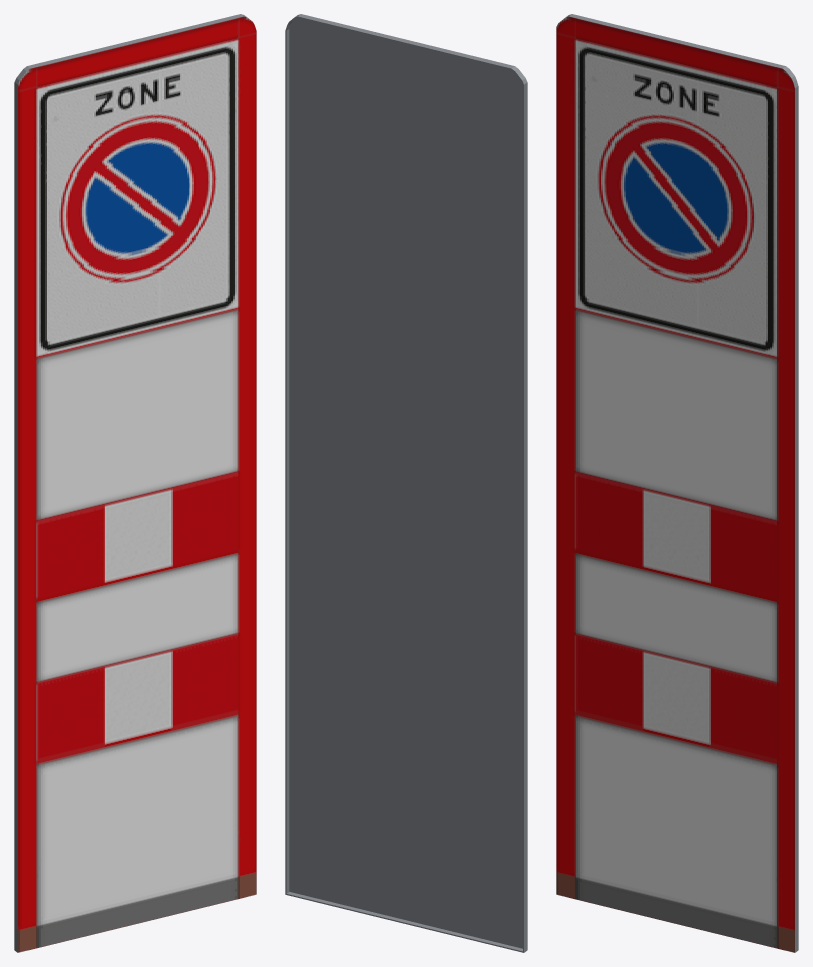
3 renders of one model, left to right at view 1: azimuth 30°, elevation 25°; view 2: azimuth 150°, elevation 25°; view 3: azimuth 330°, elevation 25°, orthographic.
Visible parts, largest first — view 1: cat_684416792df77a7e; view 2: cat_684416792df77a7e; view 3: cat_684416792df77a7e.
Part boxes in pixels (x1,y1,x2,y2): cat_684416792df77a7e: [14, 14, 256, 952]; cat_684416792df77a7e: [285, 14, 527, 952]; cat_684416792df77a7e: [556, 14, 798, 952].
Size of the model in its own units: 0.6 by 0.015 by 2.12.
Materials: 2 (1 with a texture image).
